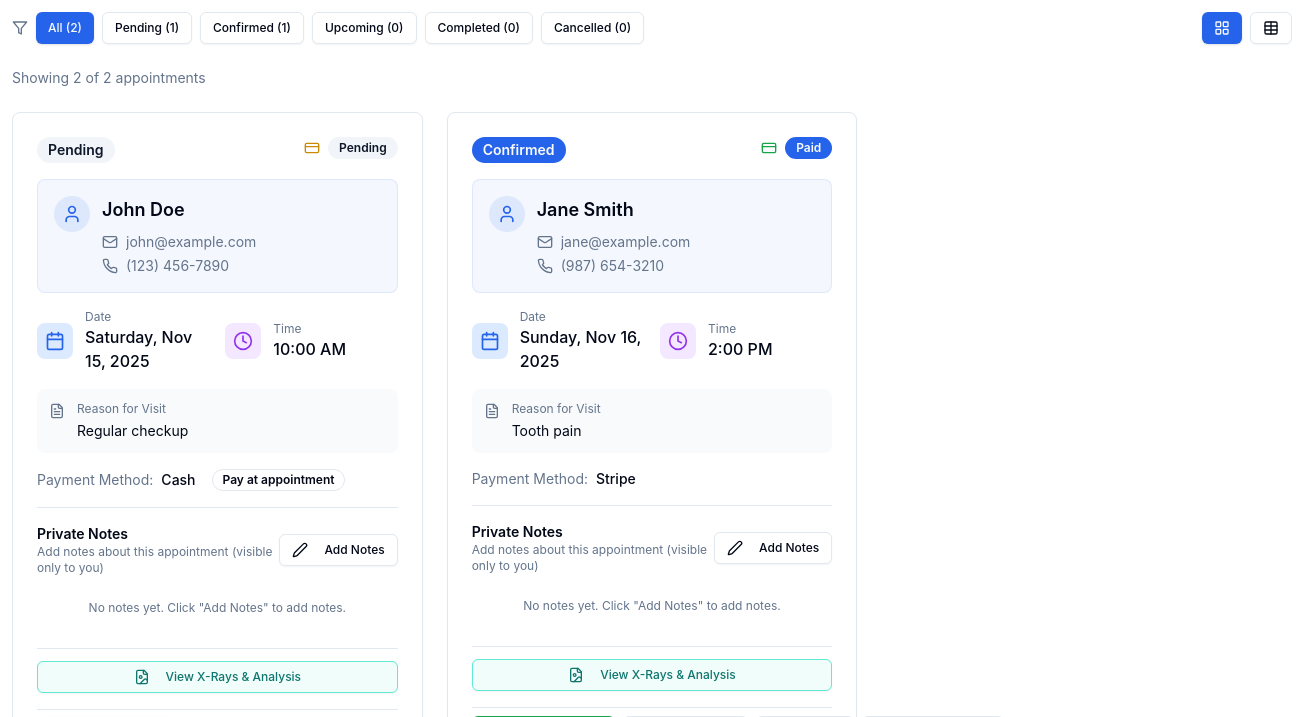
Test case: AppointmentsTab › filters appointments by status
The image size is (1304, 717).
Note: Click pending filter
Click the button "Pending (1)" at [147, 28], box x1=102 y1=12 x2=192 y2=44
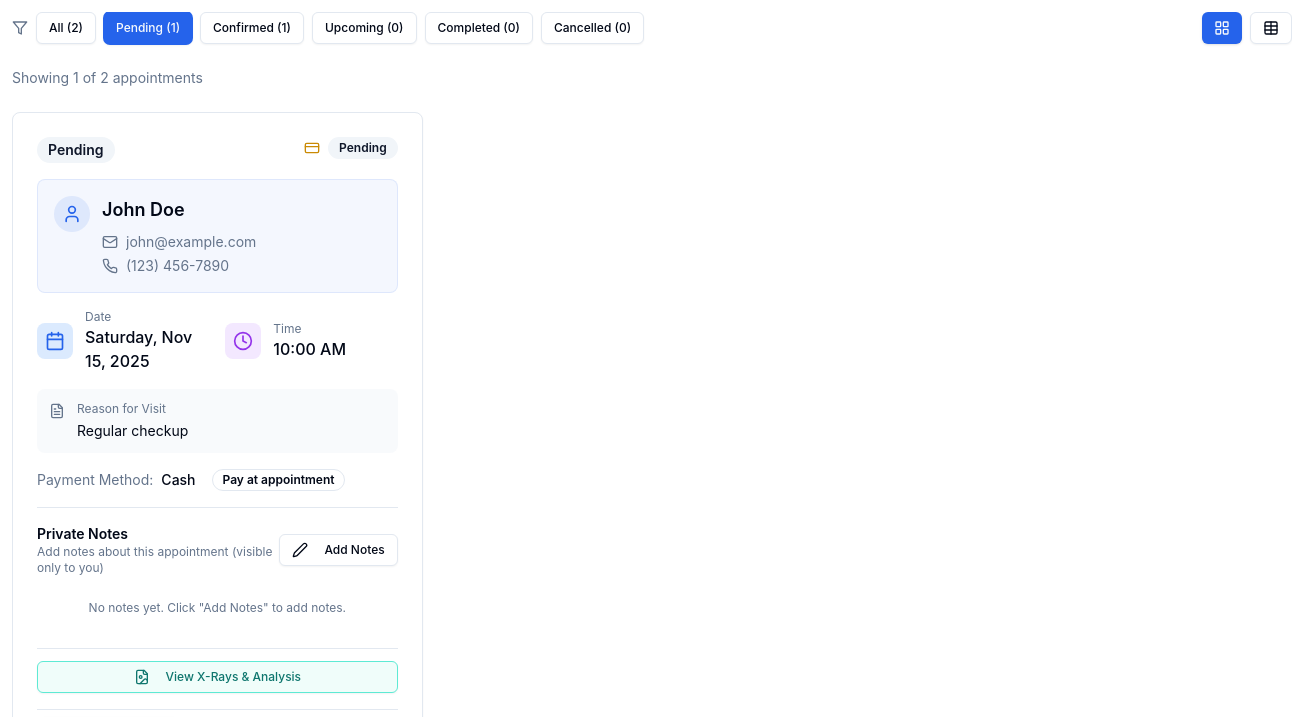
Expected: the heading "John Doe" is shown, x1=102 y1=199 x2=185 y2=220
Expected: the heading "Jane Smith" is gone
